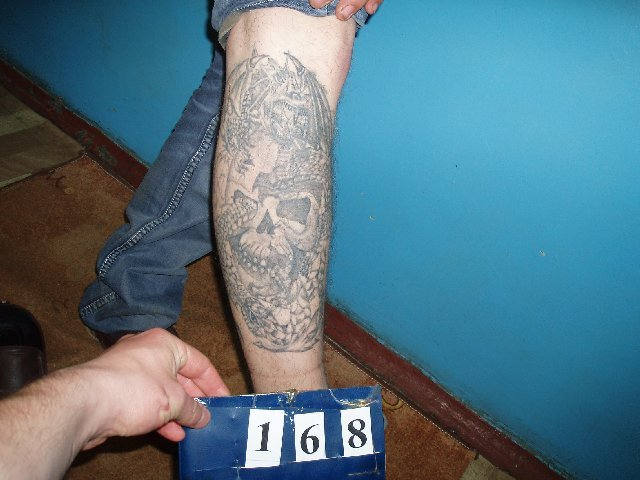tatu6_drakon: (226, 49, 335, 151)
